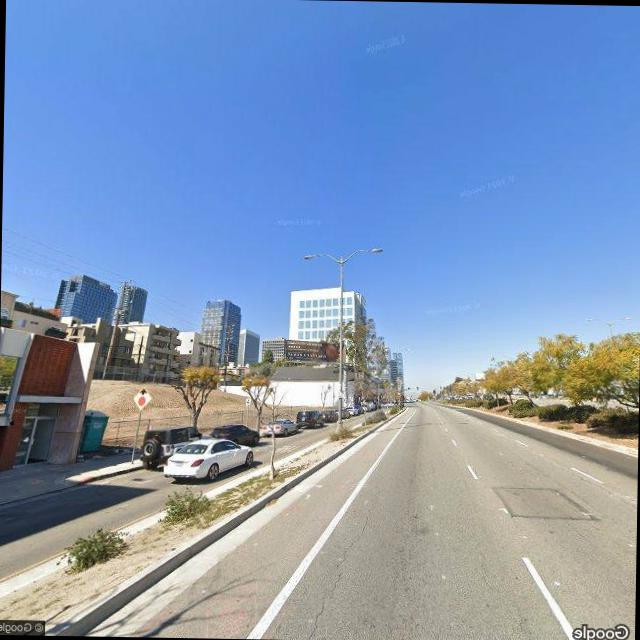pothole: (298, 487, 384, 640)
